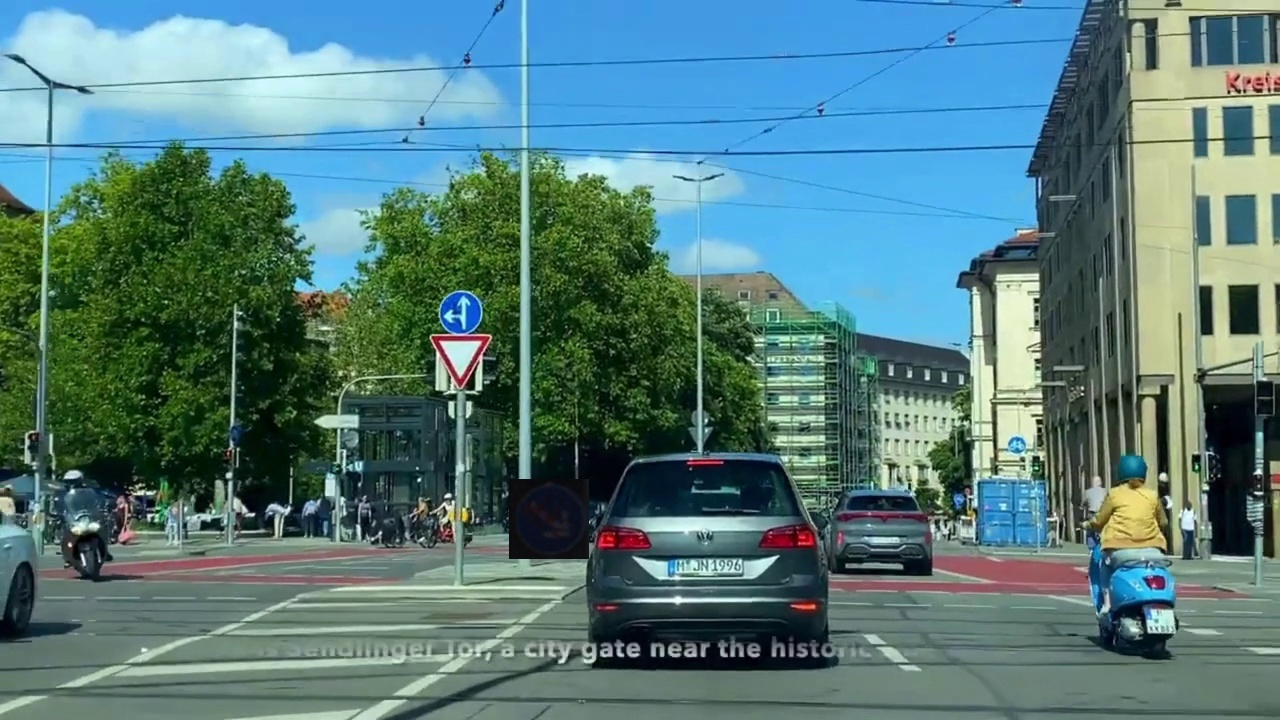Keep right: (509, 479, 589, 559)
